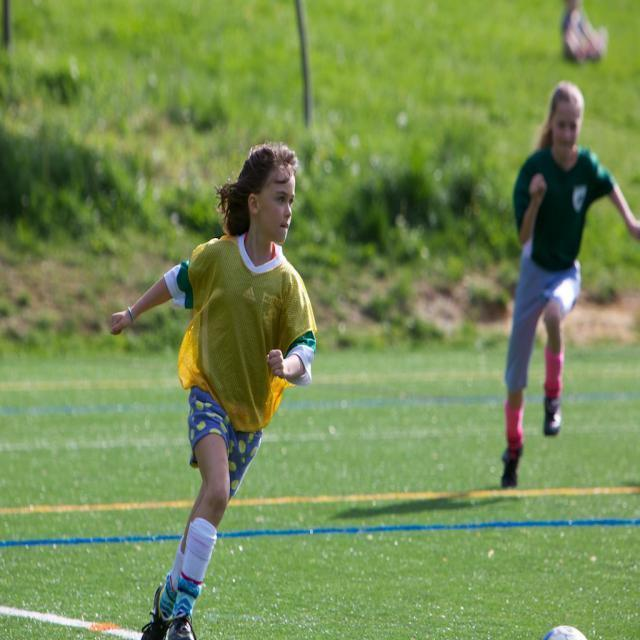ball: (545, 625, 588, 639)
